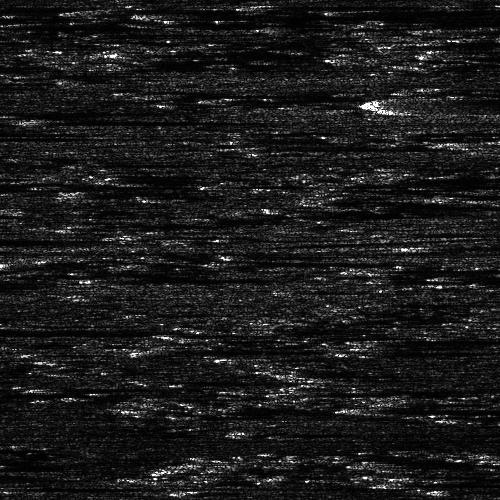rock: (45, 343, 222, 356), (330, 476, 445, 489), (237, 363, 310, 382), (411, 192, 484, 203), (438, 136, 500, 147), (113, 10, 186, 19), (335, 338, 408, 345), (91, 172, 132, 183), (329, 405, 392, 412), (232, 2, 305, 7), (9, 117, 72, 122), (318, 350, 381, 355), (0, 485, 61, 490), (399, 96, 410, 109), (140, 332, 181, 335), (63, 161, 94, 164), (492, 1, 500, 8)
shadow: (150, 10, 439, 19), (0, 322, 144, 337), (274, 363, 373, 382), (134, 343, 276, 356), (388, 476, 490, 489), (405, 96, 500, 109), (112, 172, 208, 183), (269, 2, 477, 7), (361, 405, 500, 412), (41, 117, 225, 122), (372, 338, 500, 345), (448, 192, 500, 203), (350, 350, 452, 355), (25, 485, 114, 490), (0, 15, 63, 22), (0, 125, 45, 134), (79, 161, 173, 164), (0, 245, 38, 252), (0, 238, 67, 241), (161, 332, 208, 335)
